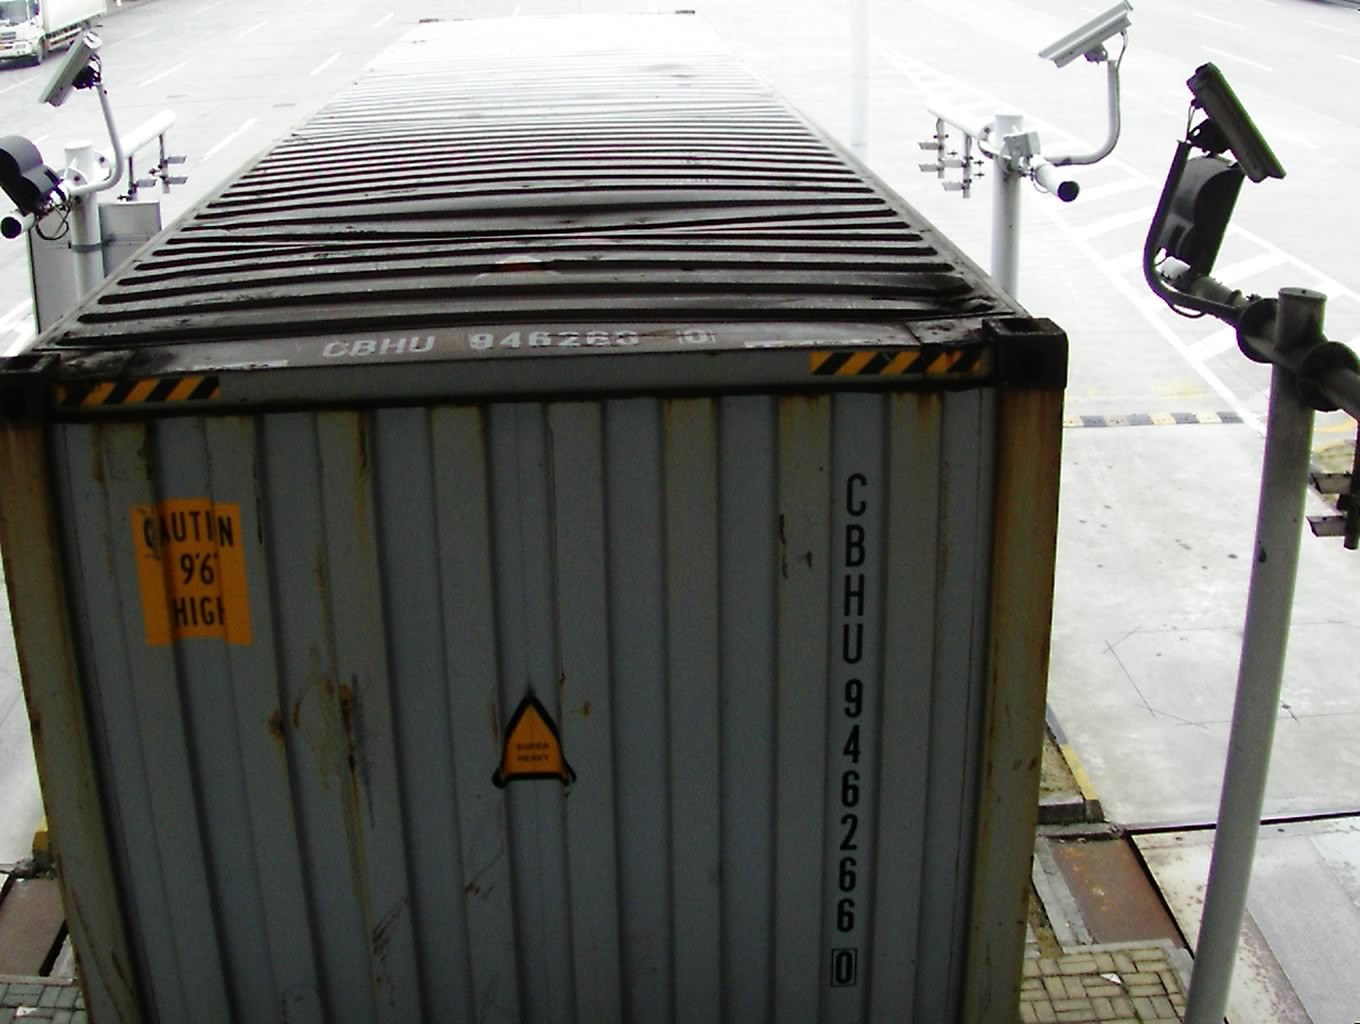words: (819, 465, 871, 993)
